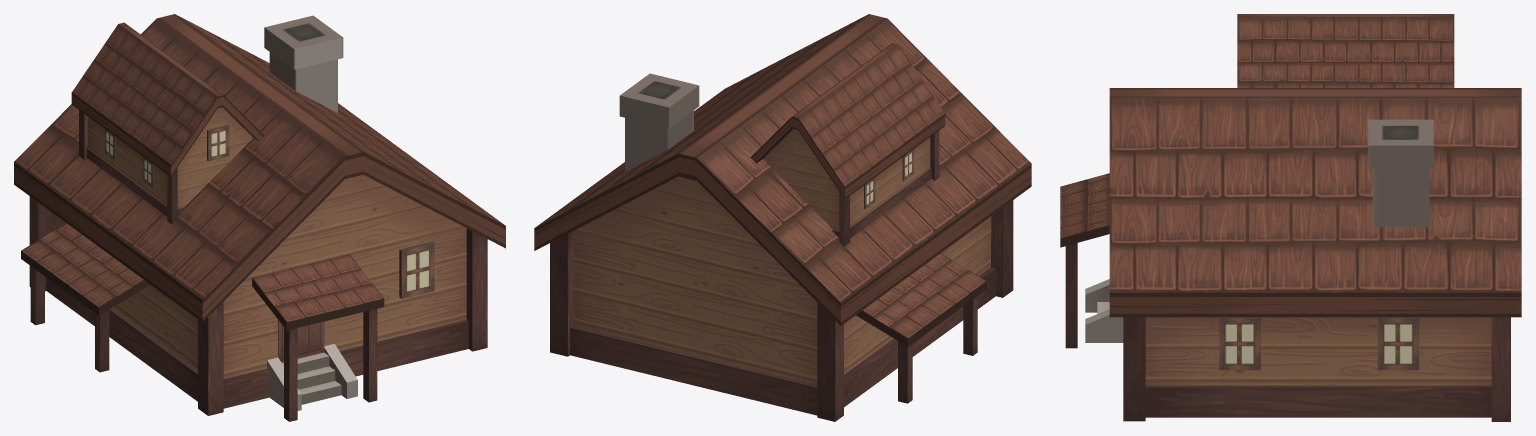
Rendered from house_Ver2.fbx.
3 views of the same model, side by side, from view 1: azimuth 30°, elevation 25°; view 2: azimuth 150°, elevation 25°; view 3: azimuth 270°, elevation 25° (orthographic). The views are drawn at different scales.
Visible parts, largest first — view 1: house2; view 2: house2; view 3: house2.
Part boxes in pixels (x1,y1,x2,y2): house2: (14,14,505,421); house2: (534,14,1031,421); house2: (1060,14,1521,421).
Bounding box in the file's own units: 588 × 449 × 646.
